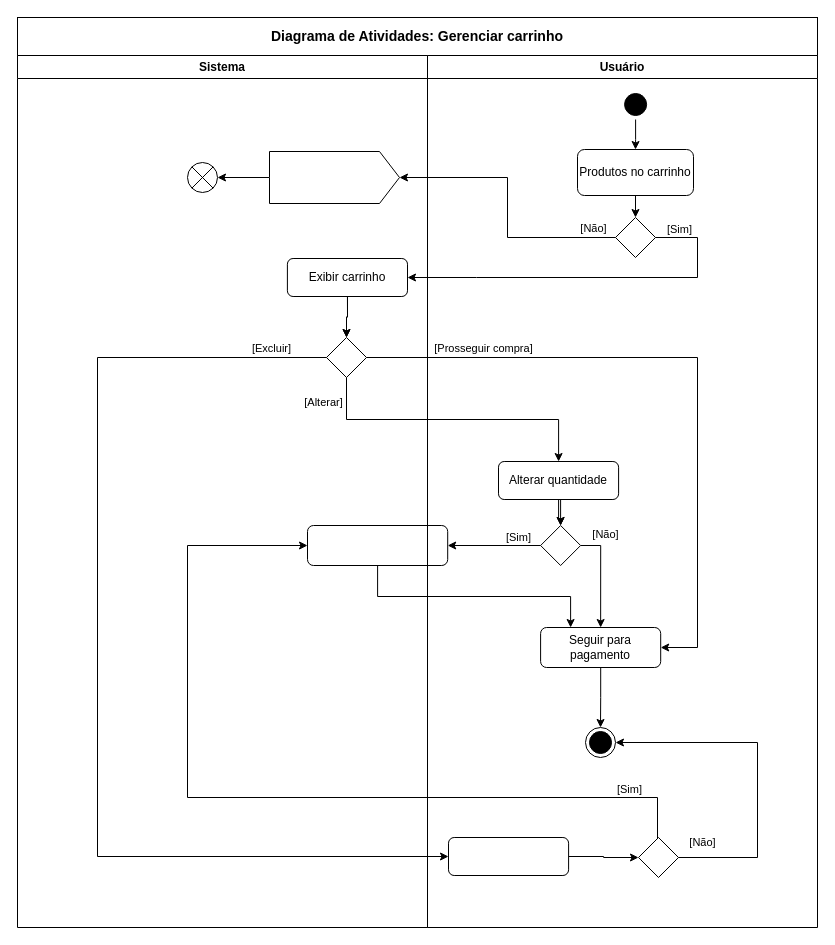
This 835x945 diagram has some shape labels left out. The shapes that lost their labels are listed below. From the top down, each one's centre as x and y in pixels, then its label:
the point at 334,177: Mensagem "Carrinho Vazio"
the point at 377,545: Quantidade alterada
the point at 508,856: Excluir produto
